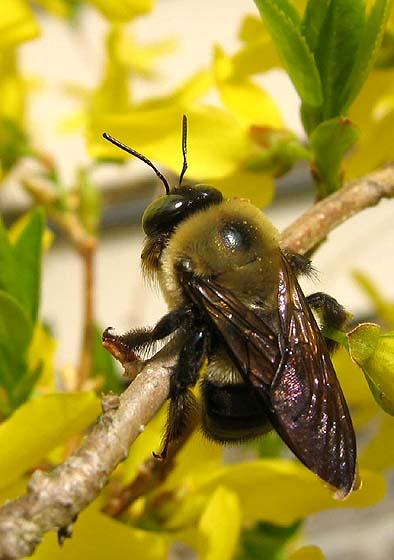Xylocopa: (92, 105, 394, 518)
